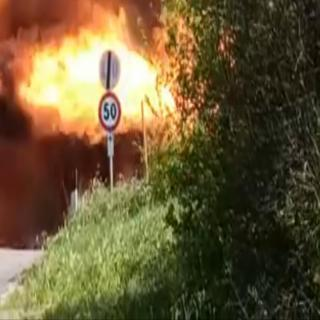smoke: (0, 121, 129, 264), (32, 0, 235, 1)
